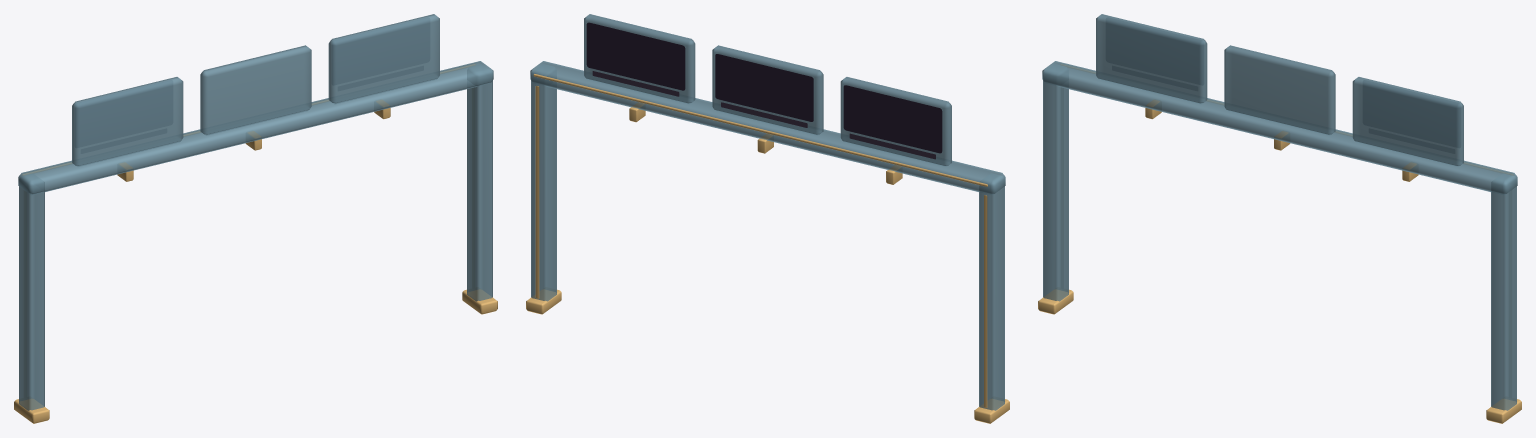
Rendered from threshold-start-gantry-lod1.glb.
3 renders of one model, left to right at view 1: azimuth 30°, elevation 25°; view 2: azimuth 150°, elevation 25°; view 3: azimuth 330°, elevation 25°, orthographic.
Visible parts, largest first — view 1: frame; view 2: frame, start_screen_left, start_screen_right, start_screen_centre, start_credit_right, start_credit_centre, start_credit_left; view 3: frame.
Boxes of the visible parts, box(x1,y1,x2,y2) form: frame: box(14, 14, 497, 423); frame: box(526, 14, 1009, 423); start_screen_left: box(843, 85, 942, 153); start_screen_right: box(586, 22, 685, 90); start_screen_centre: box(715, 54, 813, 121); start_credit_right: box(592, 71, 679, 96); start_credit_centre: box(721, 102, 807, 127); start_credit_left: box(849, 133, 935, 159); frame: box(1038, 14, 1521, 423).
Bounding box in the file's own units: 15.6 × 9.67 × 1.15.
